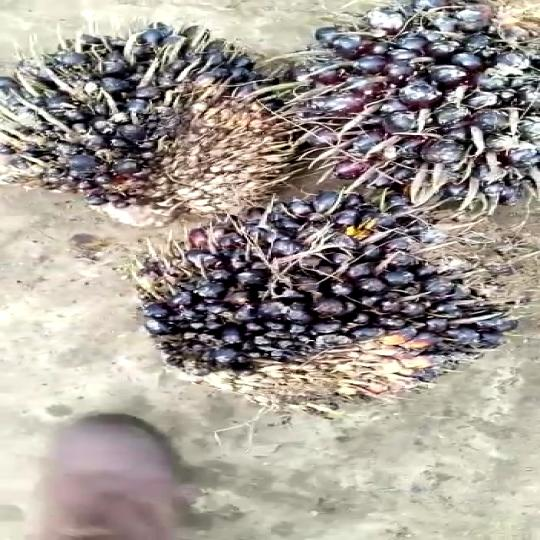mentah: (127, 198, 529, 429), (0, 20, 316, 241), (281, 1, 540, 234)
